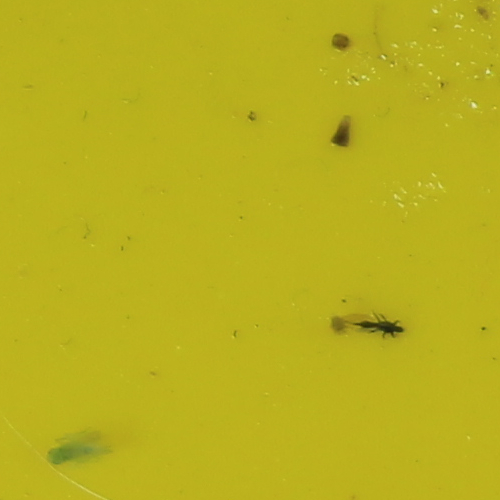cicada: (45, 444, 76, 466)
